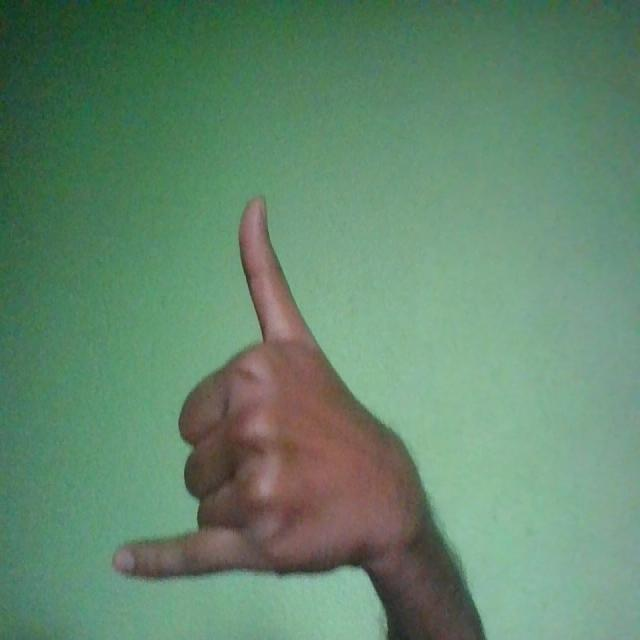Call Me: (115, 193, 438, 581)
